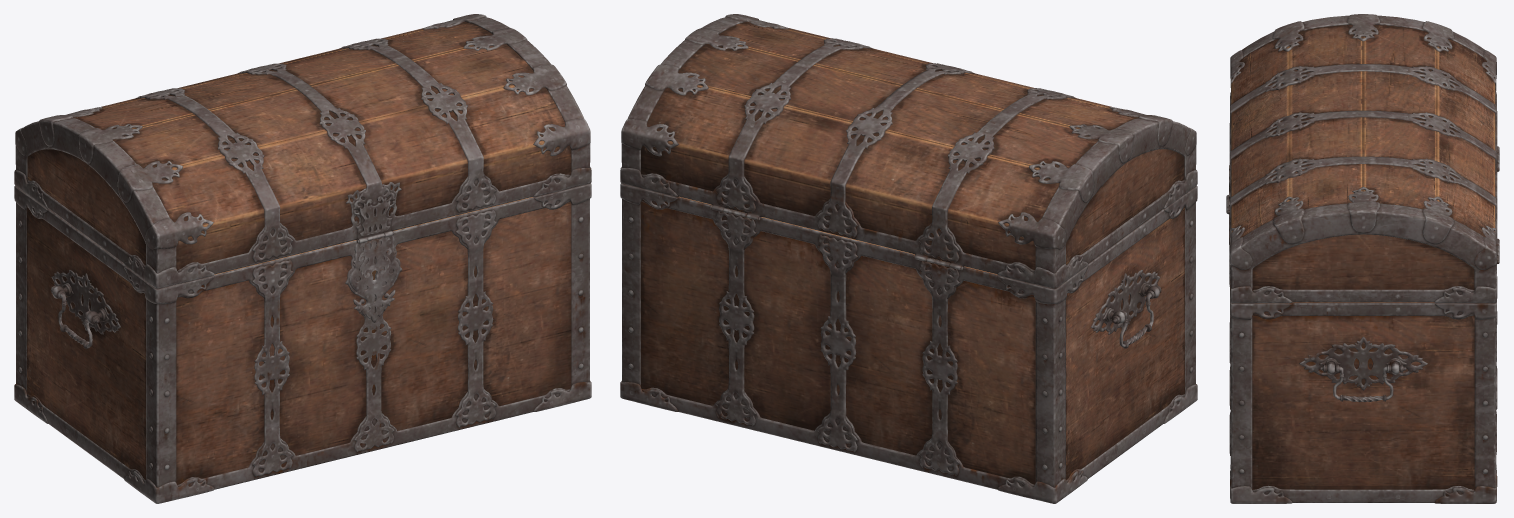
Rendered from treasure_chest.dae.
3 views of the same model, side by side, from view 1: azimuth 30°, elevation 25°; view 2: azimuth 150°, elevation 25°; view 3: azimuth 270°, elevation 25° (orthographic). The views are drawn at different scales.
Parts seen in each view (by area): view 1: treasure_chest_bottom, treasure_chest_lid, treasure_chest_lock; view 2: treasure_chest_bottom, treasure_chest_lid; view 3: treasure_chest_lid, treasure_chest_bottom, treasure_chest_handle_right.
Boxes of the visible parts, x1=… form: treasure_chest_bottom: x1=14, y1=183, x2=591, y2=503; treasure_chest_lid: x1=14, y1=14, x2=591, y2=288; treasure_chest_lock: x1=349, y1=233, x2=399, y2=322; treasure_chest_bottom: x1=620, y1=183, x2=1197, y2=503; treasure_chest_lid: x1=620, y1=14, x2=1197, y2=288; treasure_chest_lid: x1=1226, y1=14, x2=1499, y2=303; treasure_chest_bottom: x1=1229, y1=152, x2=1499, y2=503; treasure_chest_handle_right: x1=1320, y1=365, x2=1406, y2=402.
Bounding box in the file's own units: 0.959 × 0.5229 × 0.619.
1 material, 1 textured.
